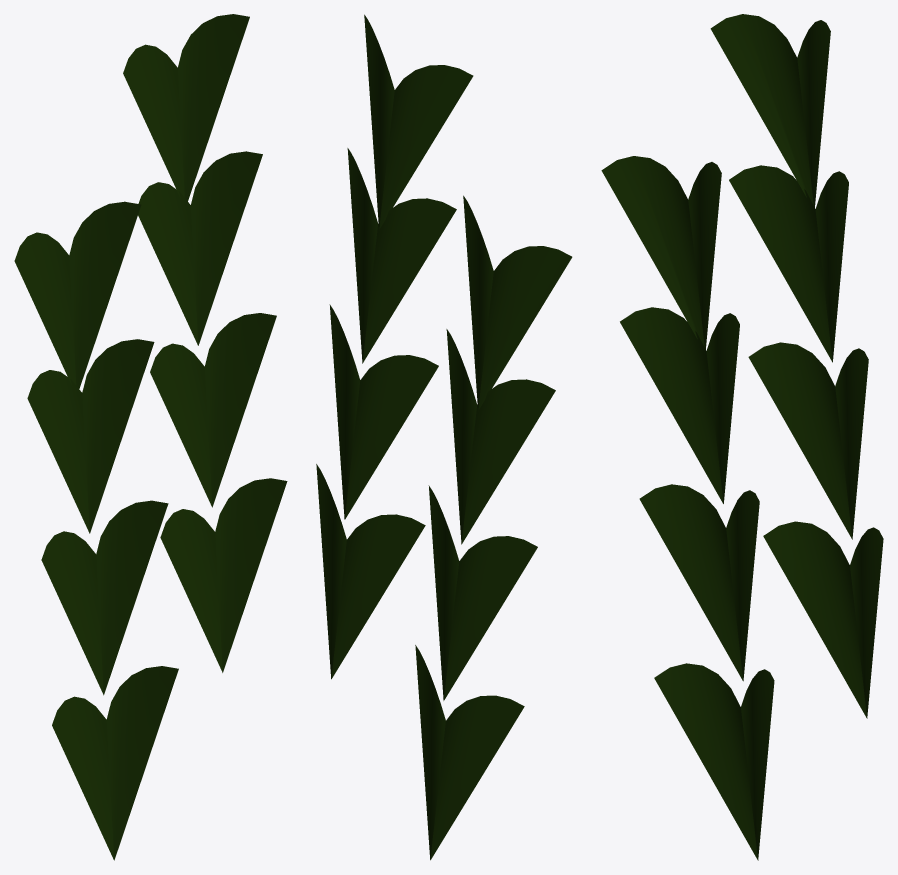
Rendered from Vegetation_Vine_Creeper_01.fbx.
The picture shows the model from 3 angles, left to right: view 1: azimuth 30°, elevation 25°; view 2: azimuth 150°, elevation 25°; view 3: azimuth 330°, elevation 25°; orthographic projection. The views are drawn at different scales.
Parts seen in each view (by area): view 1: Vegetation_Vine_Creeper_01; view 2: Vegetation_Vine_Creeper_01; view 3: Vegetation_Vine_Creeper_01.
Part boxes in pixels (x1,y1,x2,y2): Vegetation_Vine_Creeper_01: [14, 14, 287, 860]; Vegetation_Vine_Creeper_01: [316, 14, 572, 860]; Vegetation_Vine_Creeper_01: [601, 14, 883, 860].
Bounding box in the file's own units: 11.56 × 34.34 × 2.44.
